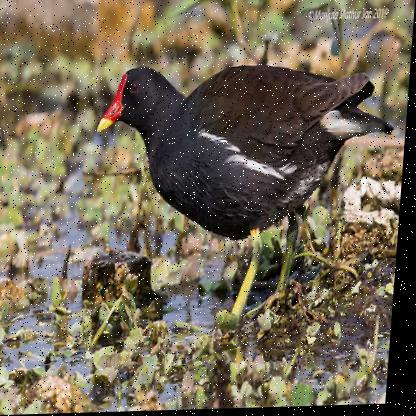Burung: (87, 61, 399, 327)
